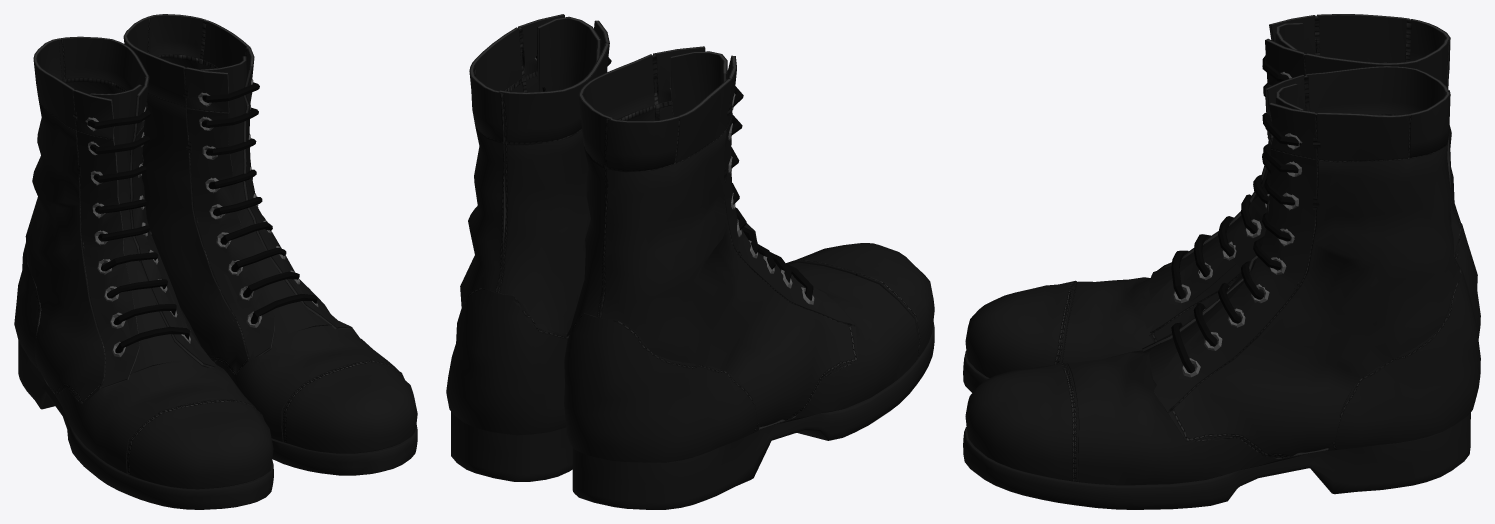
Rendered from Boots.FBX.
The picture shows the model from 3 angles, left to right: view 1: azimuth 30°, elevation 25°; view 2: azimuth 150°, elevation 25°; view 3: azimuth 270°, elevation 25°; orthographic projection. The views are drawn at different scales.
Visible parts, largest first — view 1: Boot001, Boot; view 2: Boot001, Boot; view 3: Boot, Boot001.
Part boxes in pixels (x1=…): Boot001: x1=14, y1=36, x2=273, y2=509; Boot: x1=123, y1=14, x2=417, y2=475; Boot001: x1=564, y1=46, x2=934, y2=509; Boot: x1=446, y1=14, x2=756, y2=481; Boot: x1=963, y1=66, x2=1480, y2=509; Boot001: x1=963, y1=14, x2=1480, y2=392.
Bounding box in the file's own units: 14.09 × 14.89 × 18.93.
3 materials, 1 textured.
